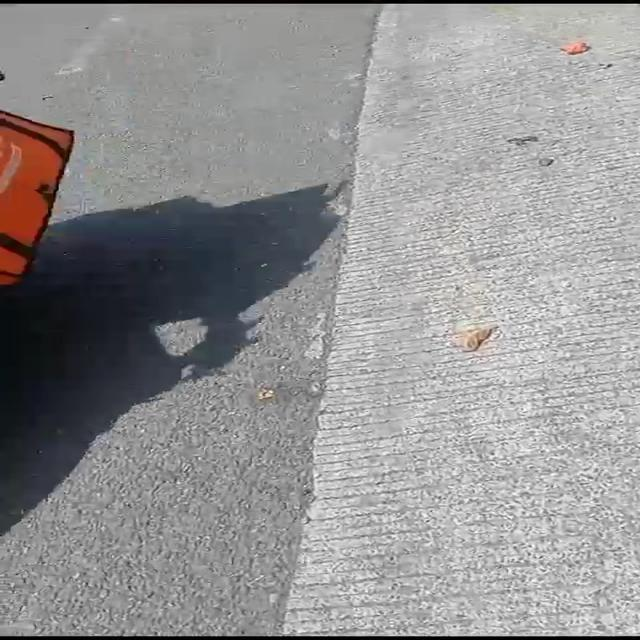Sambungan: (280, 0, 640, 640)
